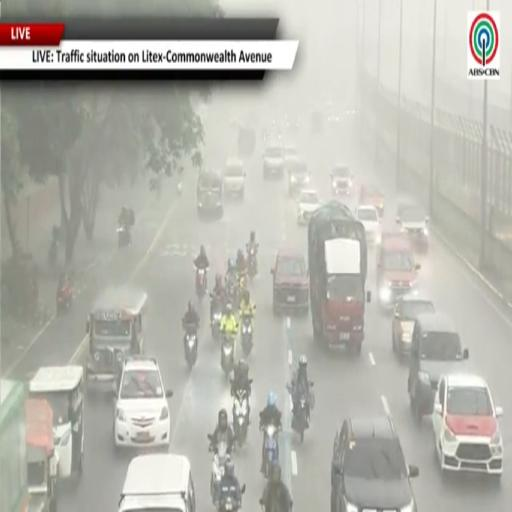bus: (0, 379, 28, 511)
car: (331, 415, 419, 511), (432, 374, 503, 477), (408, 312, 468, 423), (114, 357, 172, 451), (119, 454, 196, 511), (377, 232, 420, 310), (392, 294, 435, 356), (271, 249, 309, 314), (396, 203, 429, 252), (197, 171, 223, 217), (355, 205, 381, 245), (286, 157, 310, 197), (224, 158, 245, 199), (359, 185, 384, 217), (298, 189, 320, 225), (263, 142, 284, 179), (330, 163, 353, 195), (283, 143, 299, 166), (310, 109, 324, 133), (285, 116, 299, 133)
jeepney: (29, 365, 84, 479), (86, 287, 148, 386), (26, 399, 57, 511)
motorcycle: (209, 435, 227, 505), (292, 391, 314, 443), (233, 390, 248, 446), (263, 423, 278, 477), (221, 333, 235, 377), (184, 325, 197, 369), (218, 487, 241, 511), (48, 226, 60, 270), (211, 295, 222, 341), (241, 315, 253, 357), (57, 286, 73, 314), (117, 224, 131, 249), (226, 279, 238, 307), (196, 268, 206, 300), (248, 245, 257, 279), (48, 239, 58, 269), (238, 272, 247, 297), (177, 179, 182, 195)
truck: (308, 200, 371, 355)
